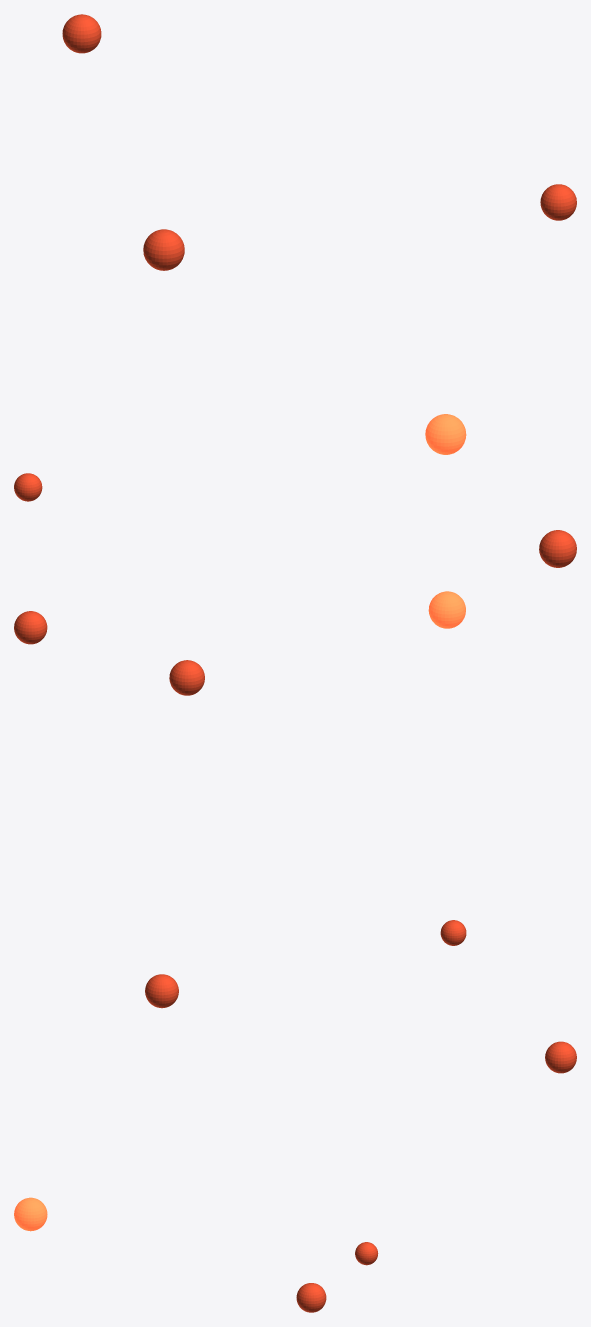
Rendered from brain_with_markers.glb.
3 views of the same model, one above another, from view 1: azimuth 30°, elevation 25°; view 2: azimuth 150°, elevation 25°; view 3: azimuth 270°, elevation 25° (orthographic). The views are drawn at different scales.
Parts seen in each view (by area): view 1: Sphere.001, Sphere, Sphere.002, Sphere.003, Sphere.004; view 2: Sphere.001, Sphere, Sphere.002, Sphere.003, Sphere.004; view 3: Sphere.001, Sphere, Sphere.002, Sphere.003, Sphere.004.
Boxes of the visible parts, left/top/right/bottom form: Sphere.001: left=143, top=229, right=184, bottom=270; Sphere: left=425, top=414, right=466, bottom=454; Sphere.002: left=62, top=14, right=101, bottom=53; Sphere.003: left=540, top=184, right=576, bottom=220; Sphere.004: left=14, top=473, right=42, bottom=501; Sphere.001: left=539, top=530, right=576, bottom=567; Sphere: left=428, top=591, right=465, bottom=628; Sphere.002: left=169, top=660, right=204, bottom=695; Sphere.003: left=14, top=611, right=47, bottom=644; Sphere.004: left=440, top=920, right=466, bottom=945; Sphere.001: left=145, top=974, right=178, bottom=1008; Sphere: left=14, top=1197, right=47, bottom=1231; Sphere.002: left=545, top=1041, right=576, bottom=1073; Sphere.003: left=296, top=1283, right=326, bottom=1312; Sphere.004: left=355, top=1242, right=378, bottom=1265.
Bounding box in the file's own units: 0.1821 × 0.1187 × 0.2069.
